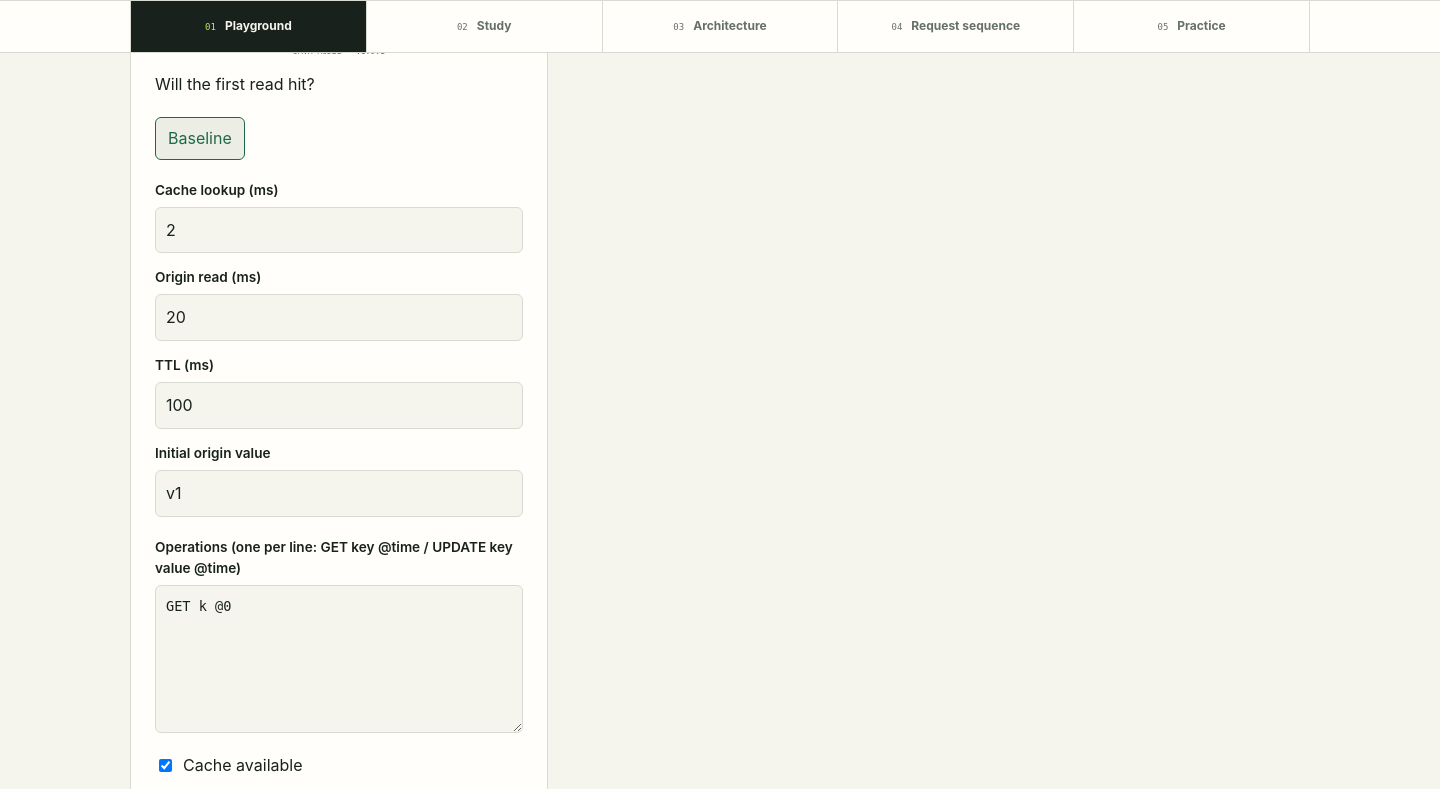
Test: Module navigation › keeps edited inputs and the run result across a tab round trip without rerunning
(page scrolled)
Replace the text in the number field labelled "TTL (ms)" with "250" at (339, 406), box [155,382,523,429]
(page scrolled)
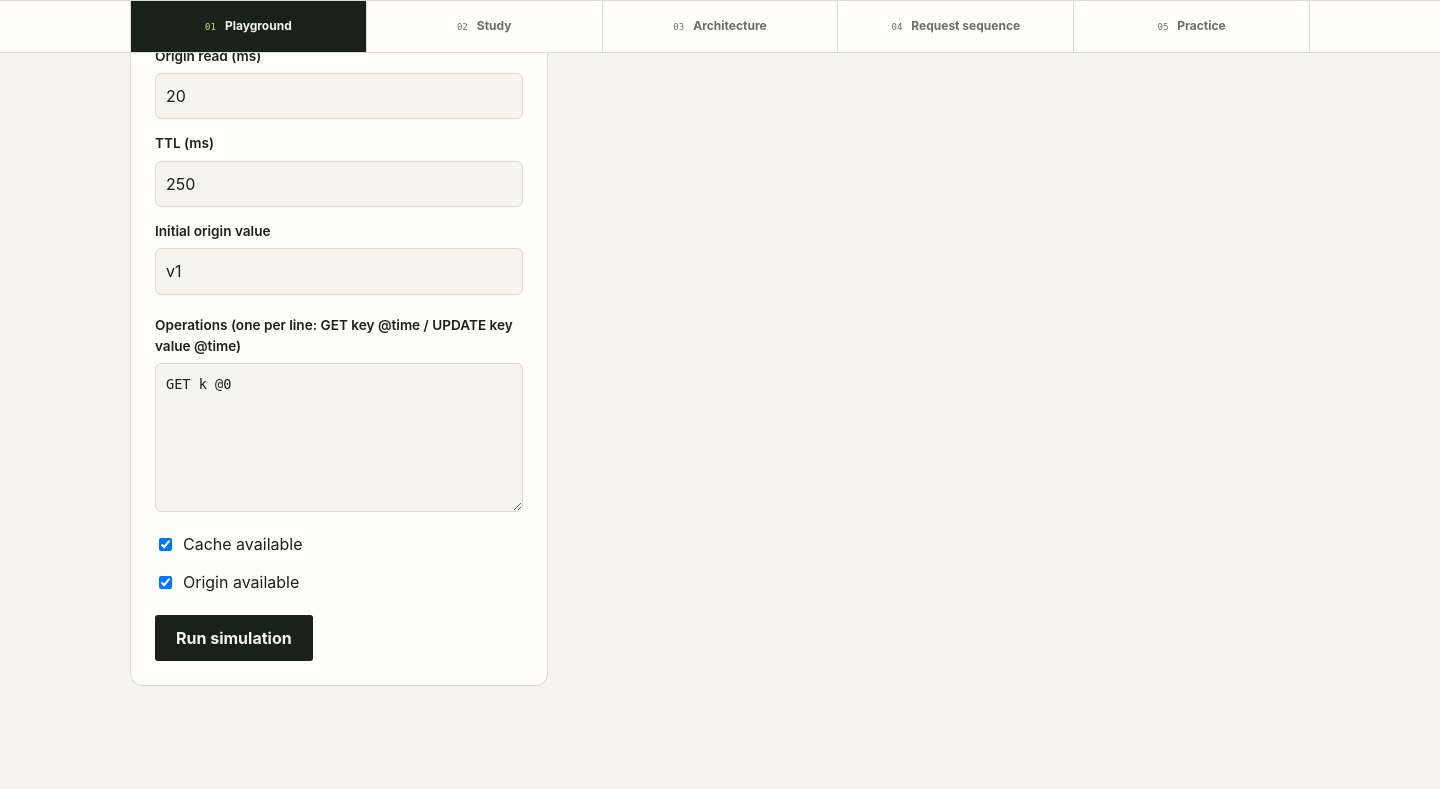
Click the button "Run simulation" at (234, 638), box [155,615,313,661]
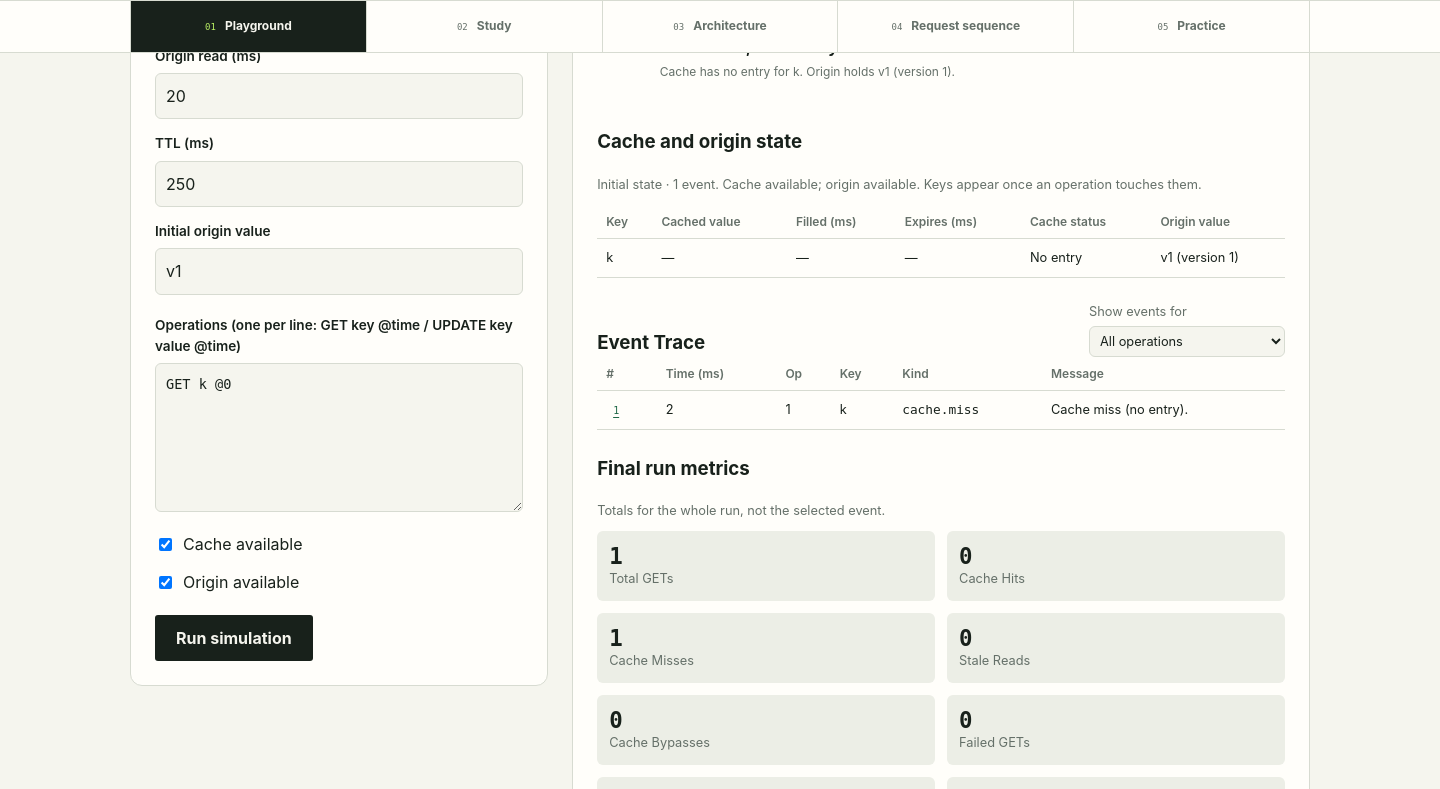
Click the tab "02Study" at (485, 26), box [367,1,603,52]
(page scrolled)
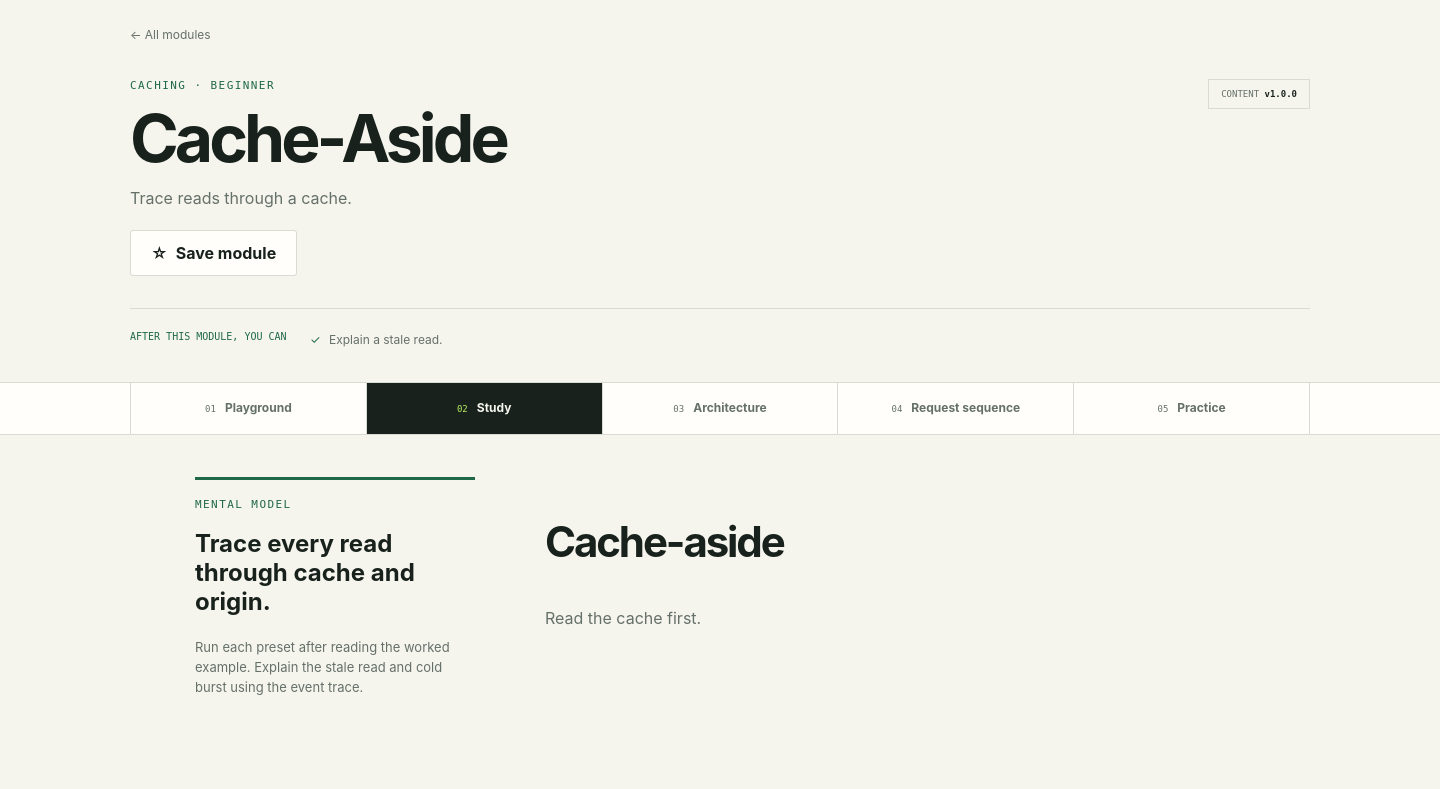
Expected: the heading "Cache-aside" is shown, [545,516,784,567]
Click the tab "01Playground" at (248, 408), box [130,383,367,434]
(page scrolled)
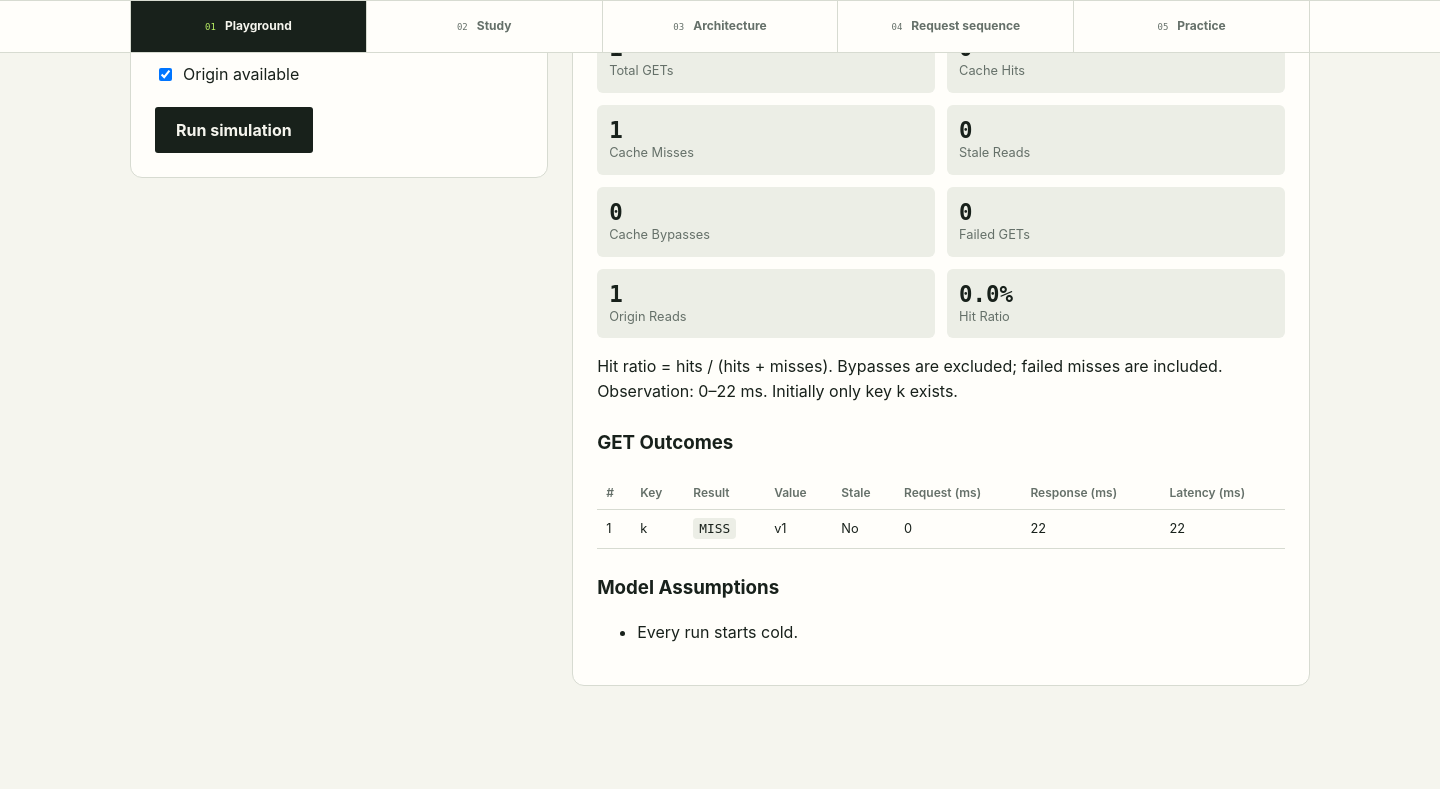
Expected: the table named "Cache GET outcomes" is shown, [597,476,1285,549]
